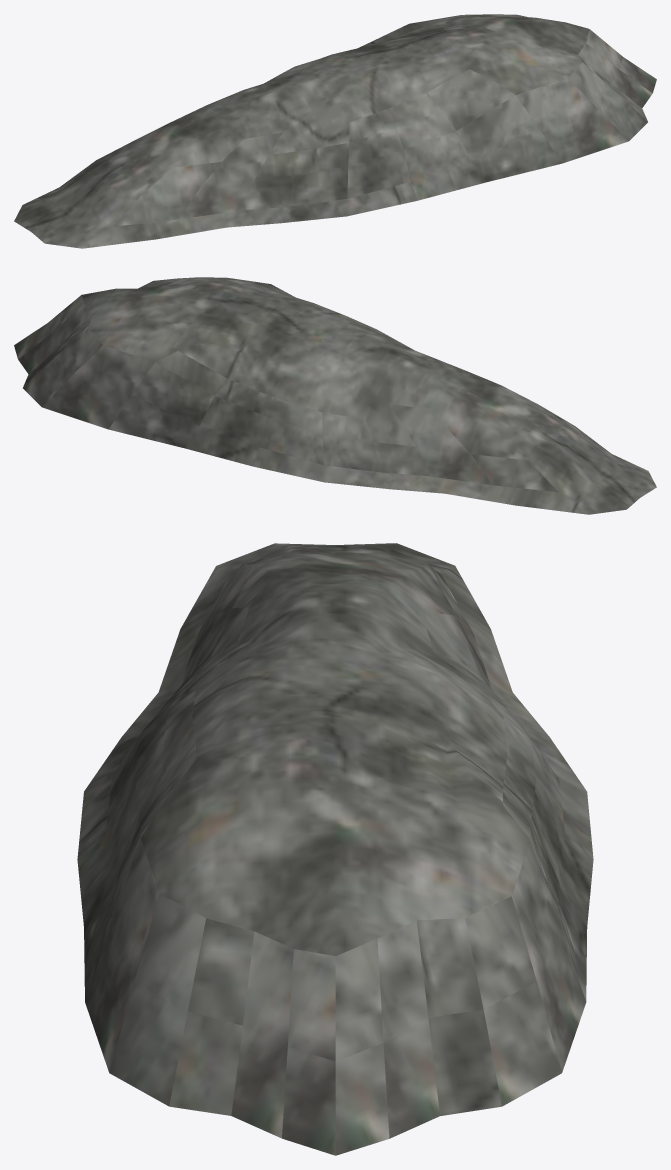
The model's file is nyc_rock_ledge.glb.
The picture shows the model from 3 angles, top to bottom: view 1: azimuth 30°, elevation 25°; view 2: azimuth 150°, elevation 25°; view 3: azimuth 270°, elevation 25°; orthographic projection. The views are drawn at different scales.
Visible parts, largest first — view 1: nyc_rock_ledge; view 2: nyc_rock_ledge; view 3: nyc_rock_ledge.
Part boxes in pixels (x1,y1,x2,y2): nyc_rock_ledge: [14, 14, 656, 248]; nyc_rock_ledge: [14, 277, 656, 514]; nyc_rock_ledge: [77, 543, 593, 1155].
Size of the model in its own units: 14.04 by 2.17 by 5.
Materials: 1 (1 with a texture image).
